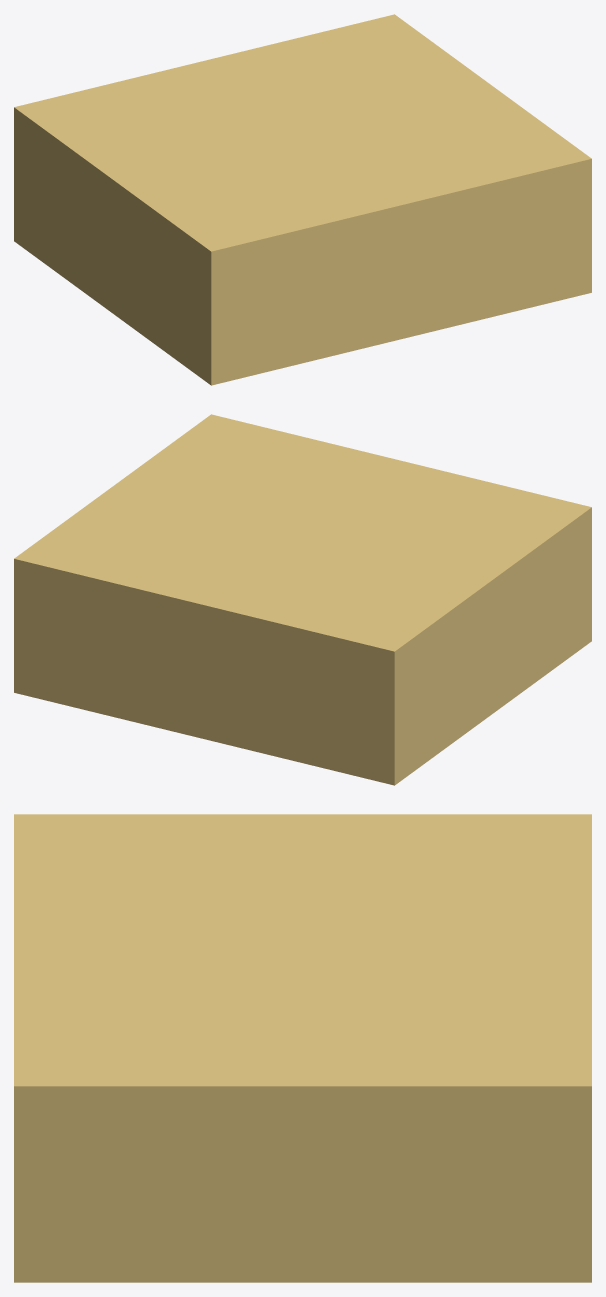
File: Room.fbx
3 renders of one model, top to bottom at view 1: azimuth 30°, elevation 25°; view 2: azimuth 150°, elevation 25°; view 3: azimuth 270°, elevation 25°, orthographic. The views are drawn at different scales.
Visible parts, largest first — view 1: Room; view 2: Room; view 3: Room.
Boxes of the visible parts, left/top/right/bottom form: Room: left=14, top=14, right=591, bottom=385; Room: left=14, top=414, right=591, bottom=785; Room: left=14, top=814, right=591, bottom=1282.
Bounding box in the file's own units: 26.43 × 8.89 × 23.72.
